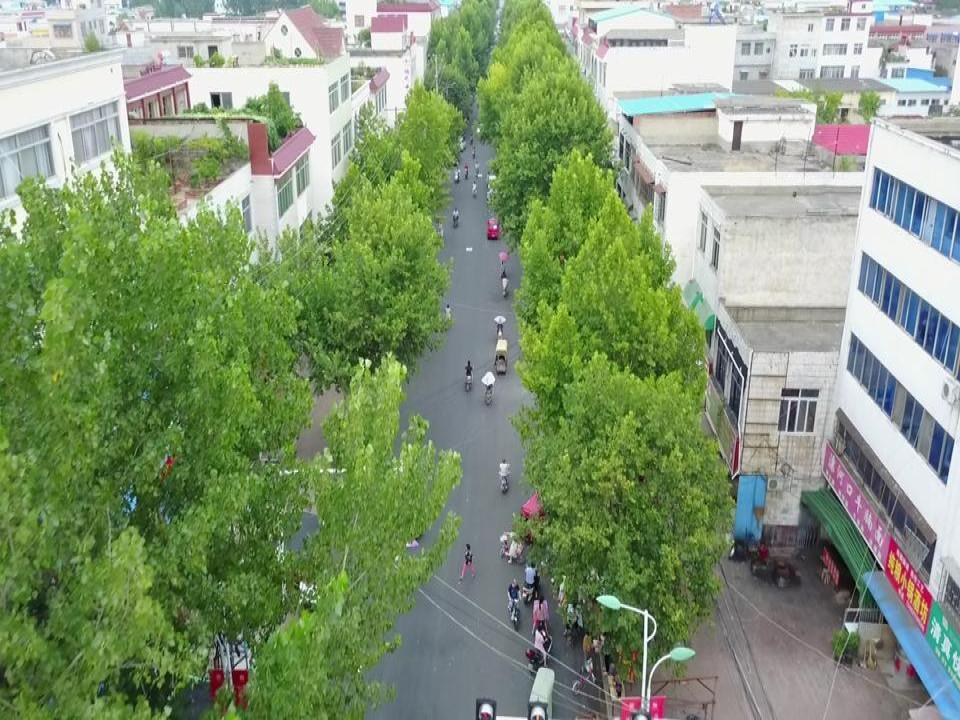car: (486, 217, 500, 240)
